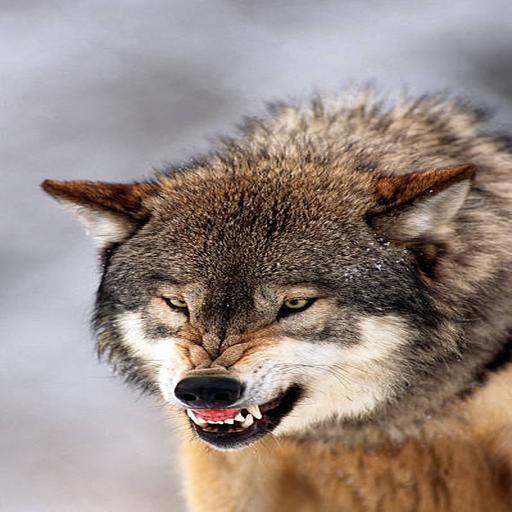Wolf: (43, 75, 512, 507)
